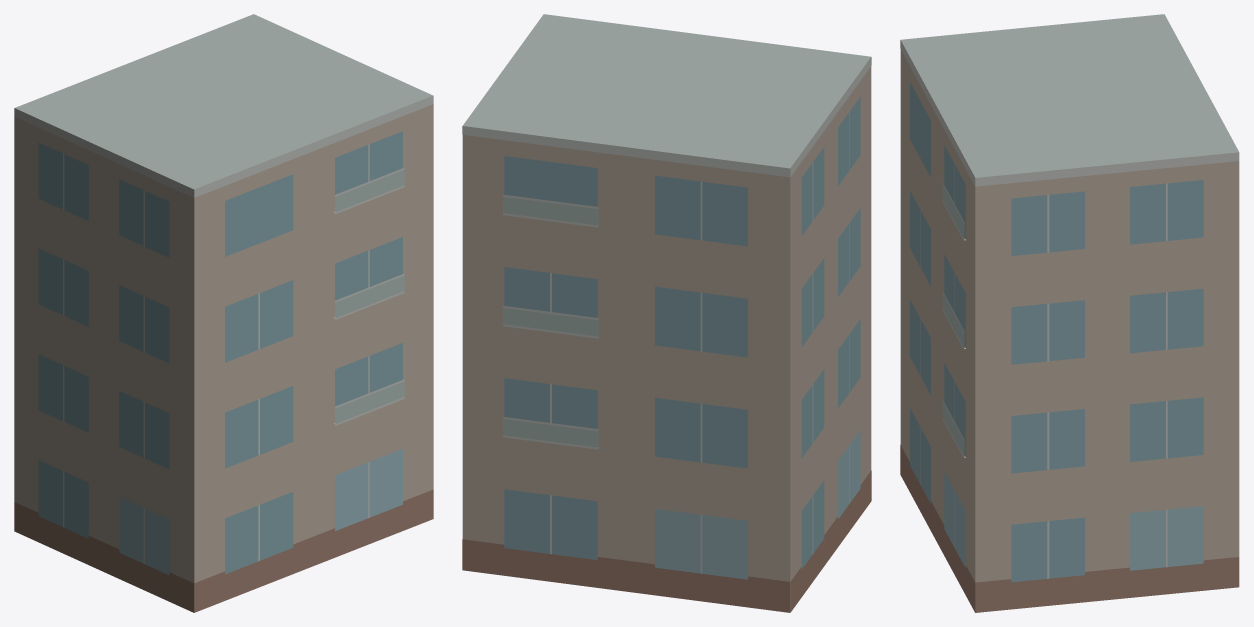
File: residential-ba250618-8f1a-43d6-8dd2-d8919ac25909.glb
The picture shows the model from 3 angles, left to right: view 1: azimuth 30°, elevation 25°; view 2: azimuth 150°, elevation 25°; view 3: azimuth 270°, elevation 25°; orthographic projection. The views are drawn at different scales.
Visible parts, largest first — view 1: residential-ba250618-8f1a-43d6-8dd2-d8919ac25909.tmp; view 2: residential-ba250618-8f1a-43d6-8dd2-d8919ac25909.tmp; view 3: residential-ba250618-8f1a-43d6-8dd2-d8919ac25909.tmp.
Boxes of the visible parts, x1,y1,x2,y2 form: residential-ba250618-8f1a-43d6-8dd2-d8919ac25909.tmp: (14,14,433,612); residential-ba250618-8f1a-43d6-8dd2-d8919ac25909.tmp: (462,14,871,612); residential-ba250618-8f1a-43d6-8dd2-d8919ac25909.tmp: (900,14,1239,612).
Bounding box in the file's own units: 9.87 × 12.2 × 8.63.
